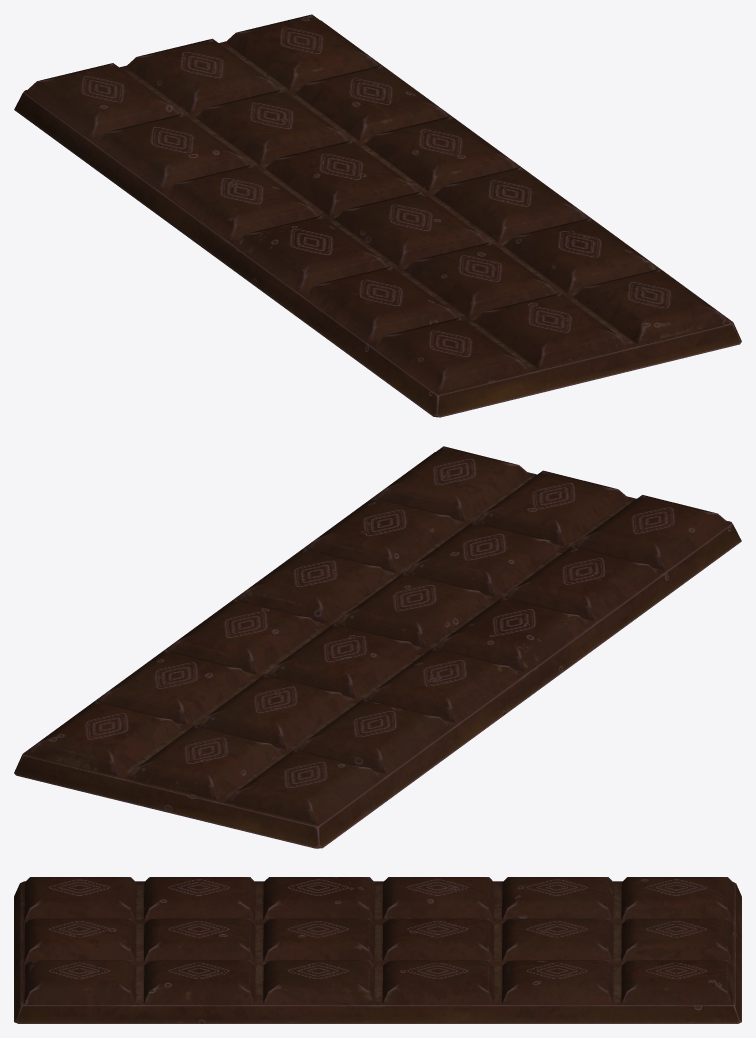
File: chocolate_fin.fbx
3 views of the same model, one above another, from view 1: azimuth 30°, elevation 25°; view 2: azimuth 150°, elevation 25°; view 3: azimuth 270°, elevation 25° (orthographic). The views are drawn at different scales.
Parts seen in each view (by area): view 1: chocolate_fin; view 2: chocolate_fin; view 3: chocolate_fin.
Part boxes in pixels (x1=…): chocolate_fin: x1=14, y1=14, x2=741, y2=417; chocolate_fin: x1=14, y1=446, x2=741, y2=848; chocolate_fin: x1=14, y1=877, x2=741, y2=1023.
Bounding box in the file's own units: 10.78 × 1.14 × 25.64.
1 material, 1 textured.
